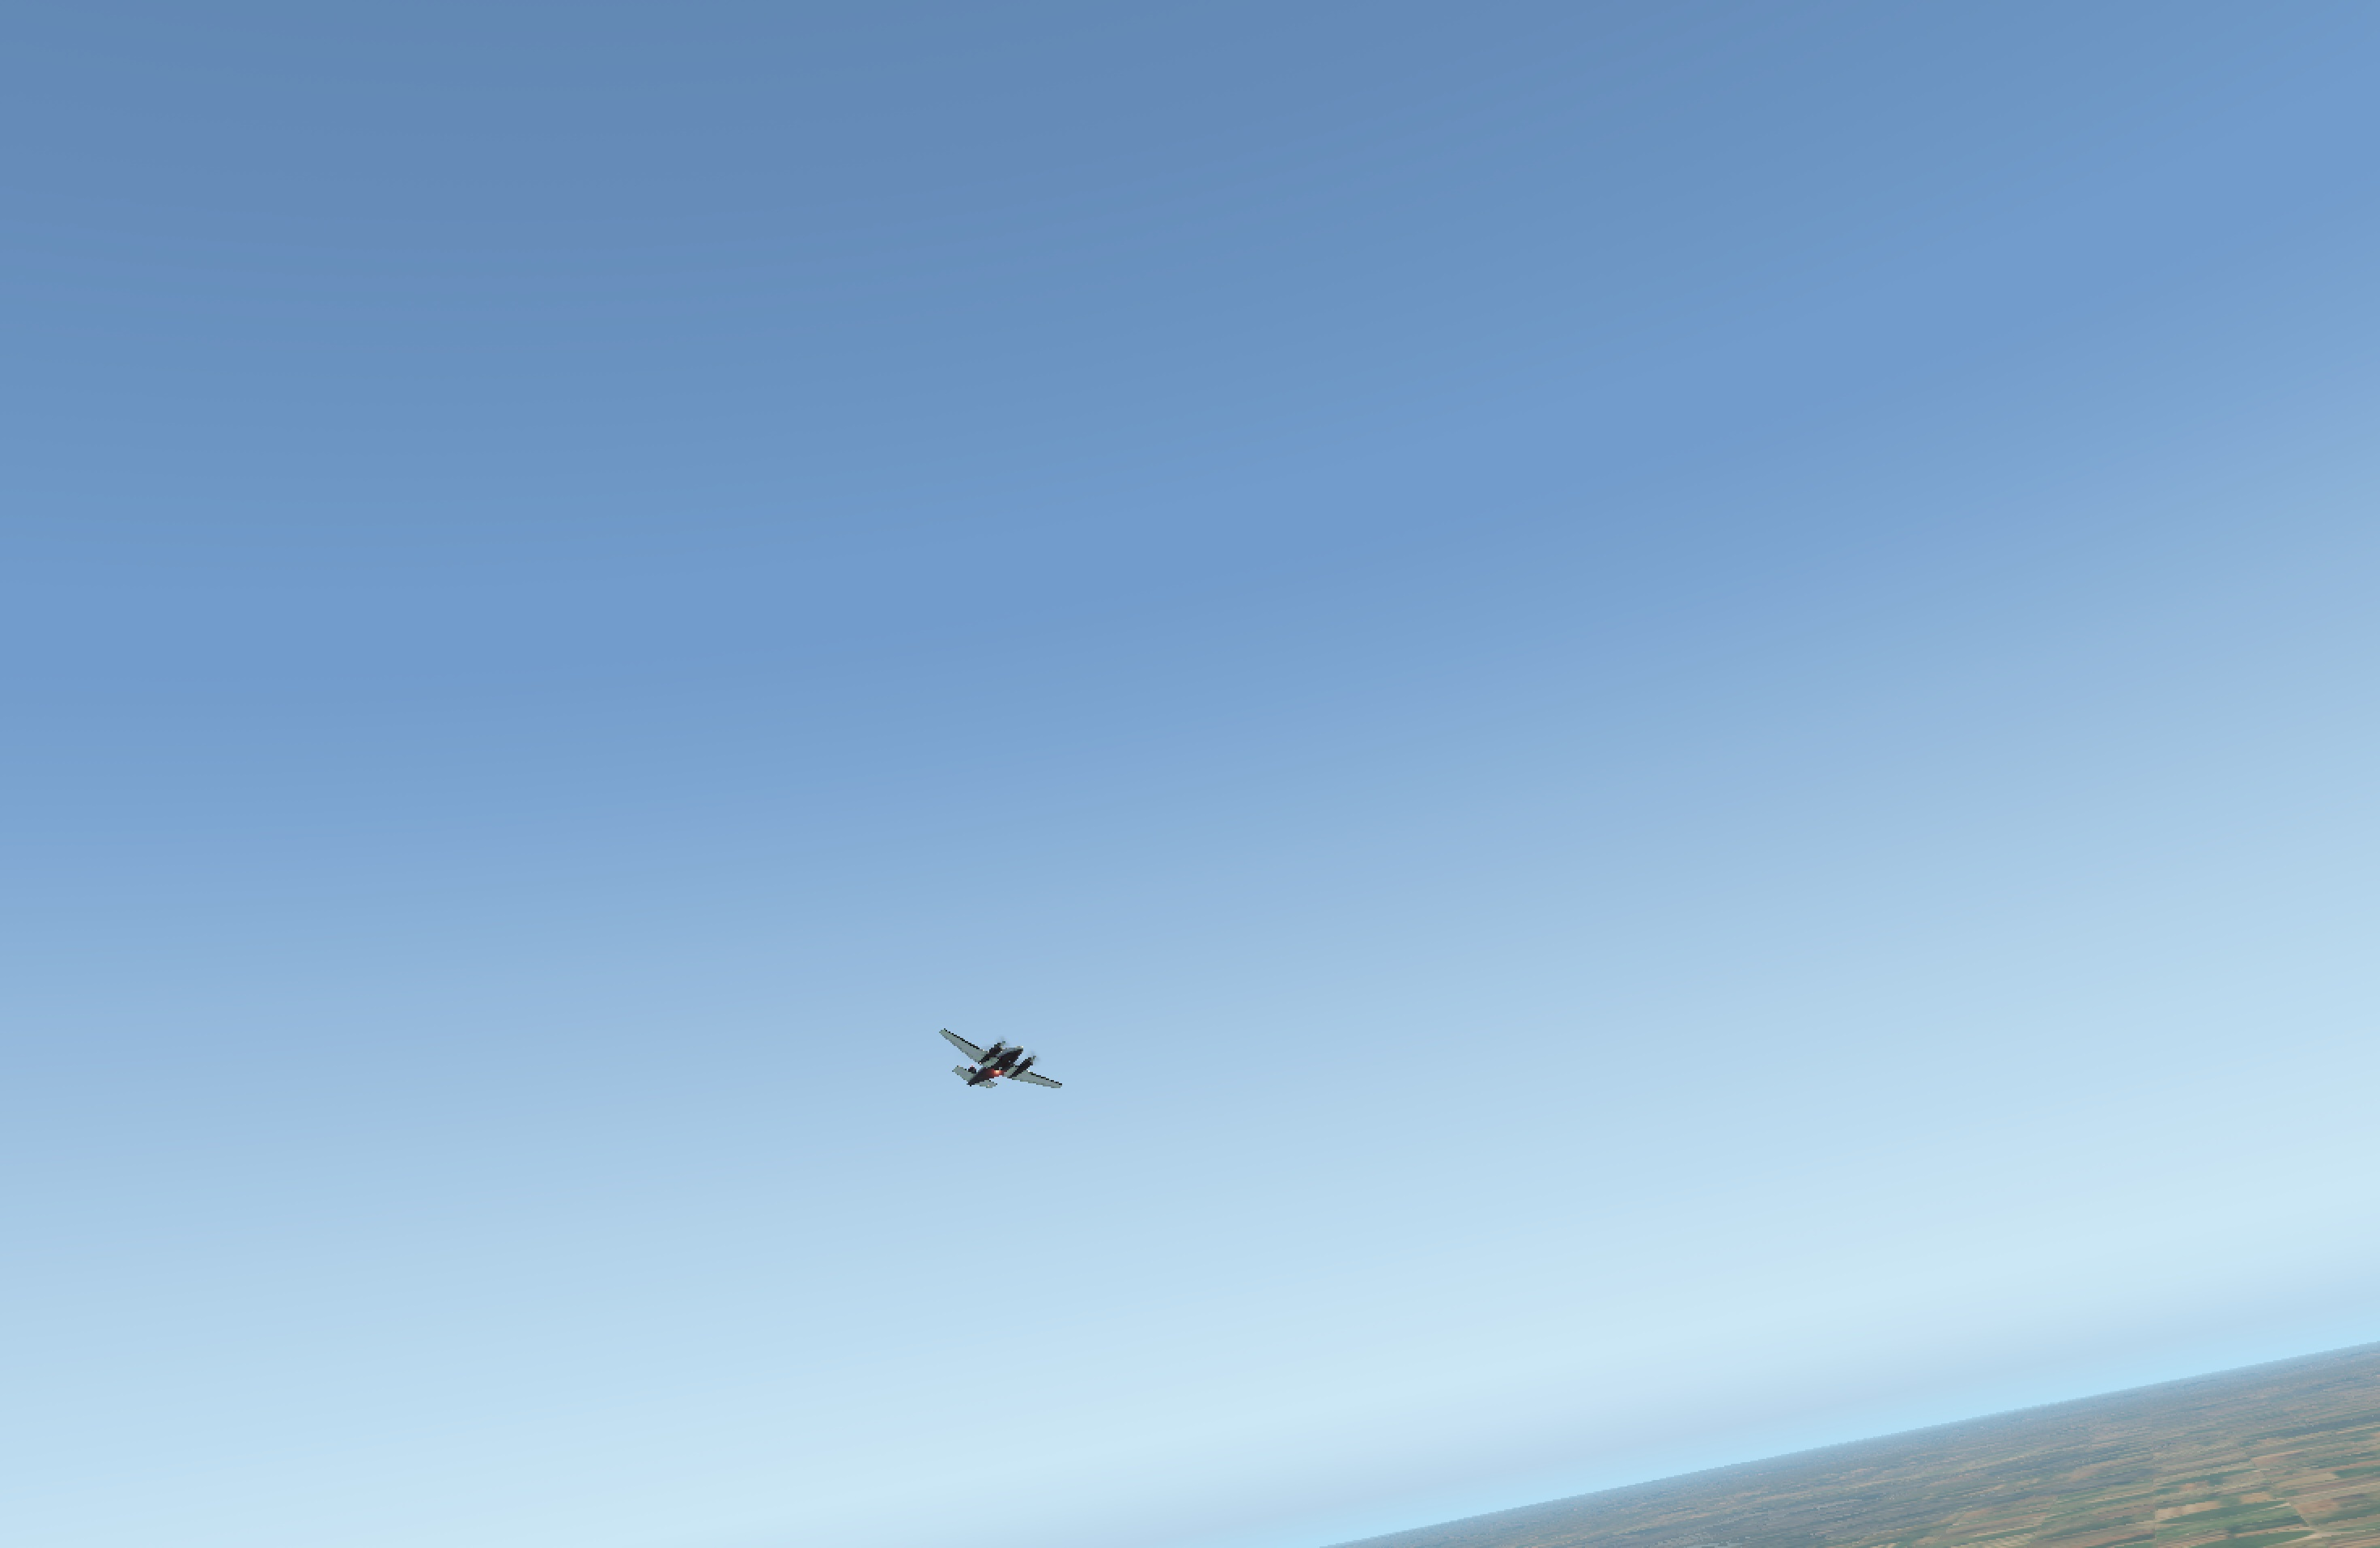aircraft: (930, 1038, 1077, 1092)
